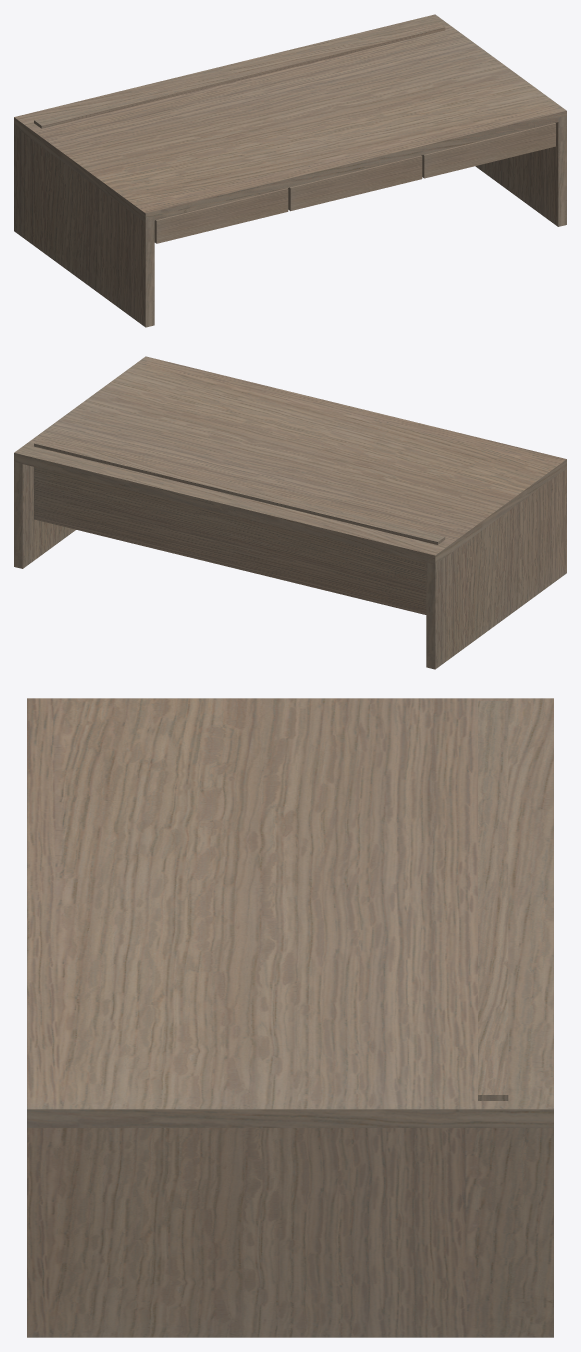
Rendered from deskWood.glb.
The picture shows the model from 3 angles, top to bottom: view 1: azimuth 30°, elevation 25°; view 2: azimuth 150°, elevation 25°; view 3: azimuth 270°, elevation 25°; orthographic projection. The views are drawn at different scales.
Parts seen in each view (by area): view 1: Cube_0, Cube.002, Cube.003, Cube.001_0, drawer, Cube.004, Cube.005_0; view 2: Cube_0, Cube.003, Cube.002, Cube.001_0; view 3: Cube_0, Cube.001_0, Cube.003.
Boxes of the visible parts, box(x1,y1,x2,y2) form: Cube_0: box(14, 14, 566, 222); Cube.002: box(14, 126, 154, 327); Cube.003: box(34, 22, 445, 128); Cube.001_0: box(475, 115, 566, 226); drawer: box(288, 155, 422, 211); Cube.004: box(154, 188, 288, 243); Cube.005_0: box(421, 123, 555, 178); Cube_0: box(14, 356, 566, 564); Cube.003: box(34, 438, 445, 614); Cube.002: box(426, 468, 566, 669); Cube.001_0: box(14, 462, 75, 568); Cube_0: box(27, 698, 553, 1127); Cube.001_0: box(27, 1128, 553, 1337); Cube.003: box(478, 701, 508, 1100).
Size of the model in its own units: 1.31 by 0.3477 by 0.7092.
1 material, 1 textured.
